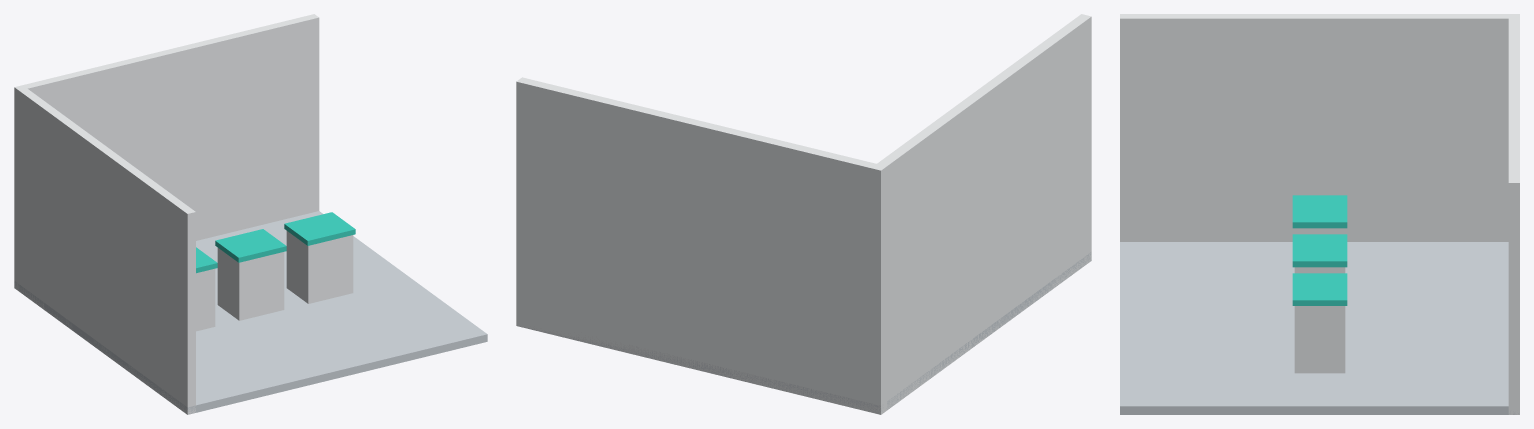
3 views of the same model, side by side, from view 1: azimuth 30°, elevation 25°; view 2: azimuth 150°, elevation 25°; view 3: azimuth 270°, elevation 25° (orthographic). The views are drawn at different scales.
Parts seen in each view (by area): view 1: Exhibition Booth Concept; view 2: Exhibition Booth Concept; view 3: Exhibition Booth Concept.
Part boxes in pixels (bbox=[...]): Exhibition Booth Concept: bbox=[14, 14, 487, 414]; Exhibition Booth Concept: bbox=[516, 14, 1091, 414]; Exhibition Booth Concept: bbox=[1120, 14, 1519, 414].
Size of the model in its own units: 5 by 3.2 by 5.
